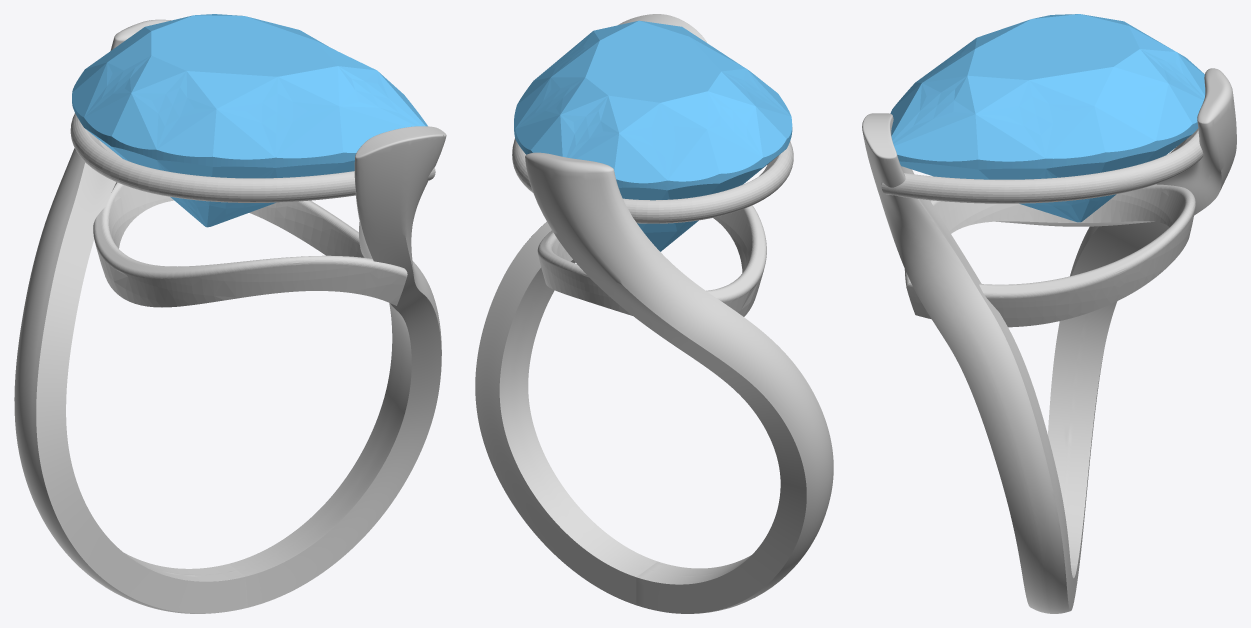
File: Cynthia Hanssen Topaz Ring.glb
3 renders of one model, left to right at view 1: azimuth 30°, elevation 25°; view 2: azimuth 150°, elevation 25°; view 3: azimuth 270°, elevation 25°, orthographic. The views are drawn at different scales.
Visible parts, largest first — view 1: Topaz 2 prong PT for 3d model, Cynthia topaz for 3d model, Topaz 2 prong PT for 3d model.002, Topaz 2 prong PT for 3d model.001; view 2: Topaz 2 prong PT for 3d model, Cynthia topaz for 3d model, Topaz 2 prong PT for 3d model.002, Topaz 2 prong PT for 3d model.001; view 3: Topaz 2 prong PT for 3d model, Cynthia topaz for 3d model, Topaz 2 prong PT for 3d model.002, Topaz 2 prong PT for 3d model.001.
Boxes of the visible parts, <box> form: Topaz 2 prong PT for 3d model: <box>14,19,446,613</box>; Cynthia topaz for 3d model: <box>72,14,427,227</box>; Topaz 2 prong PT for 3d model.002: <box>93,182,407,307</box>; Topaz 2 prong PT for 3d model.001: <box>70,113,435,202</box>; Topaz 2 prong PT for 3d model: <box>475,14,833,613</box>; Cynthia topaz for 3d model: <box>514,20,792,251</box>; Topaz 2 prong PT for 3d model.002: <box>537,205,766,316</box>; Topaz 2 prong PT for 3d model.001: <box>512,138,793,223</box>; Topaz 2 prong PT for 3d model: <box>862,68,1236,613</box>; Cynthia topaz for 3d model: <box>890,14,1205,222</box>; Topaz 2 prong PT for 3d model.002: <box>904,184,1195,327</box>; Topaz 2 prong PT for 3d model.001: <box>881,128,1203,203</box>.
Size of the model in its own units: 23.23 by 32.35 by 20.04.
